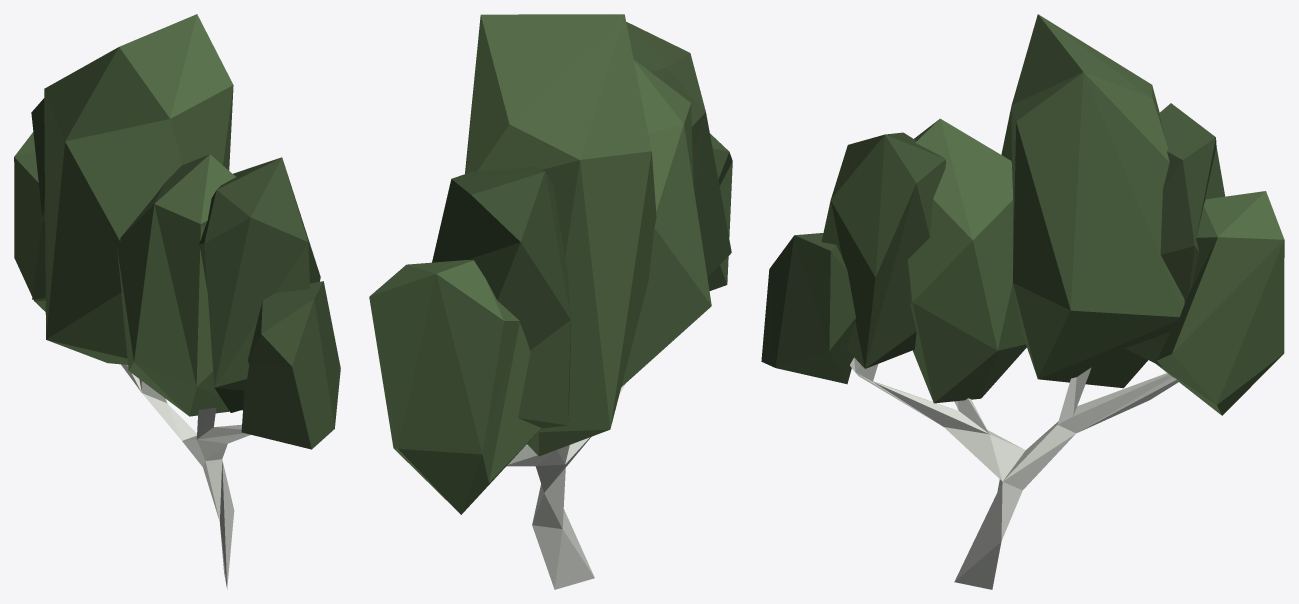
Rendered from BirchTree_4.lod3.glb.
The picture shows the model from 3 angles, left to right: view 1: azimuth 30°, elevation 25°; view 2: azimuth 150°, elevation 25°; view 3: azimuth 270°, elevation 25°; orthographic projection. The views are drawn at different scales.
Visible parts, largest first — view 1: BirchTree_4; view 2: BirchTree_4; view 3: BirchTree_4.
Part boxes in pixels (x1,y1,x2,y2): BirchTree_4: [14, 14, 340, 589]; BirchTree_4: [369, 14, 732, 589]; BirchTree_4: [761, 14, 1284, 589].
Bounding box in the file's own units: 1.15 × 3.59 × 3.18.
